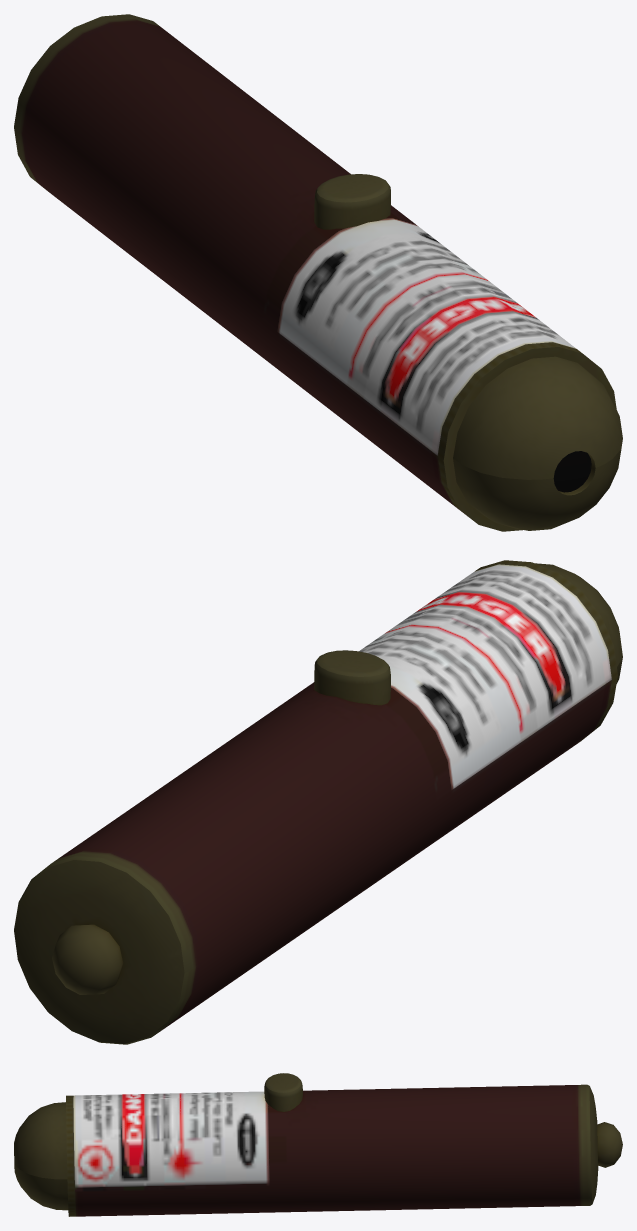
Rendered from GTLaserPen.glb.
The picture shows the model from 3 angles, top to bottom: view 1: azimuth 30°, elevation 25°; view 2: azimuth 150°, elevation 25°; view 3: azimuth 270°, elevation 25°; orthographic projection. The views are drawn at different scales.
Visible parts, largest first — view 1: jiguangbi; view 2: jiguangbi; view 3: jiguangbi.
Boxes of the visible parts, x1=… form: jiguangbi: x1=14, y1=14, x2=622, y2=531; jiguangbi: x1=14, y1=560, x2=622, y2=1044; jiguangbi: x1=14, y1=1073, x2=622, y2=1216.
Bounding box in the file's own units: 0.3083 × 0.3625 × 1.54.
1 material, 1 textured.
